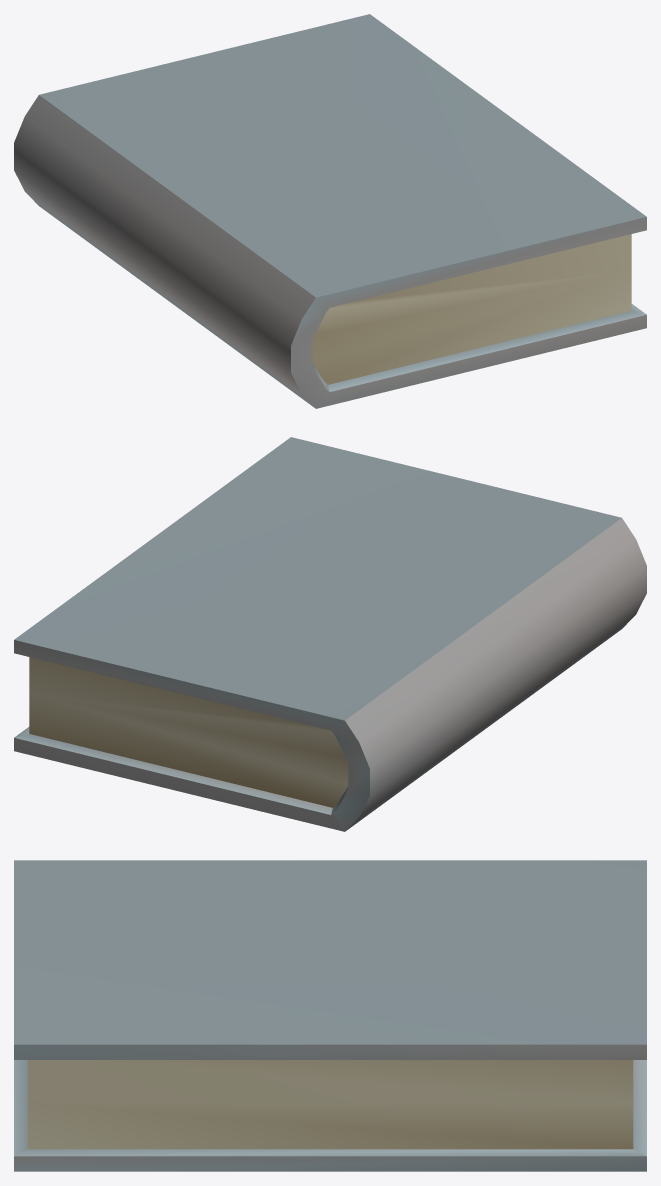
File: Book_5.glb
The picture shows the model from 3 angles, top to bottom: view 1: azimuth 30°, elevation 25°; view 2: azimuth 150°, elevation 25°; view 3: azimuth 270°, elevation 25°; orthographic projection. The views are drawn at different scales.
Parts seen in each view (by area): view 1: Book_5; view 2: Book_5; view 3: Book_5.
Part boxes in pixels (x1=…): Book_5: x1=14, y1=14, x2=646, y2=408; Book_5: x1=14, y1=437, x2=646, y2=831; Book_5: x1=14, y1=860, x2=646, y2=1171.
Size of the model in its own units: 0.2129 by 0.0636 by 0.2871.
